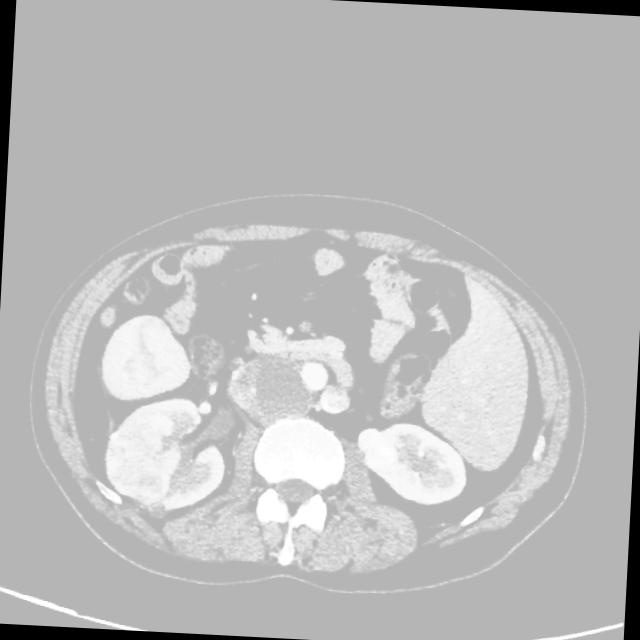TUMOR: (105, 270, 478, 434)
